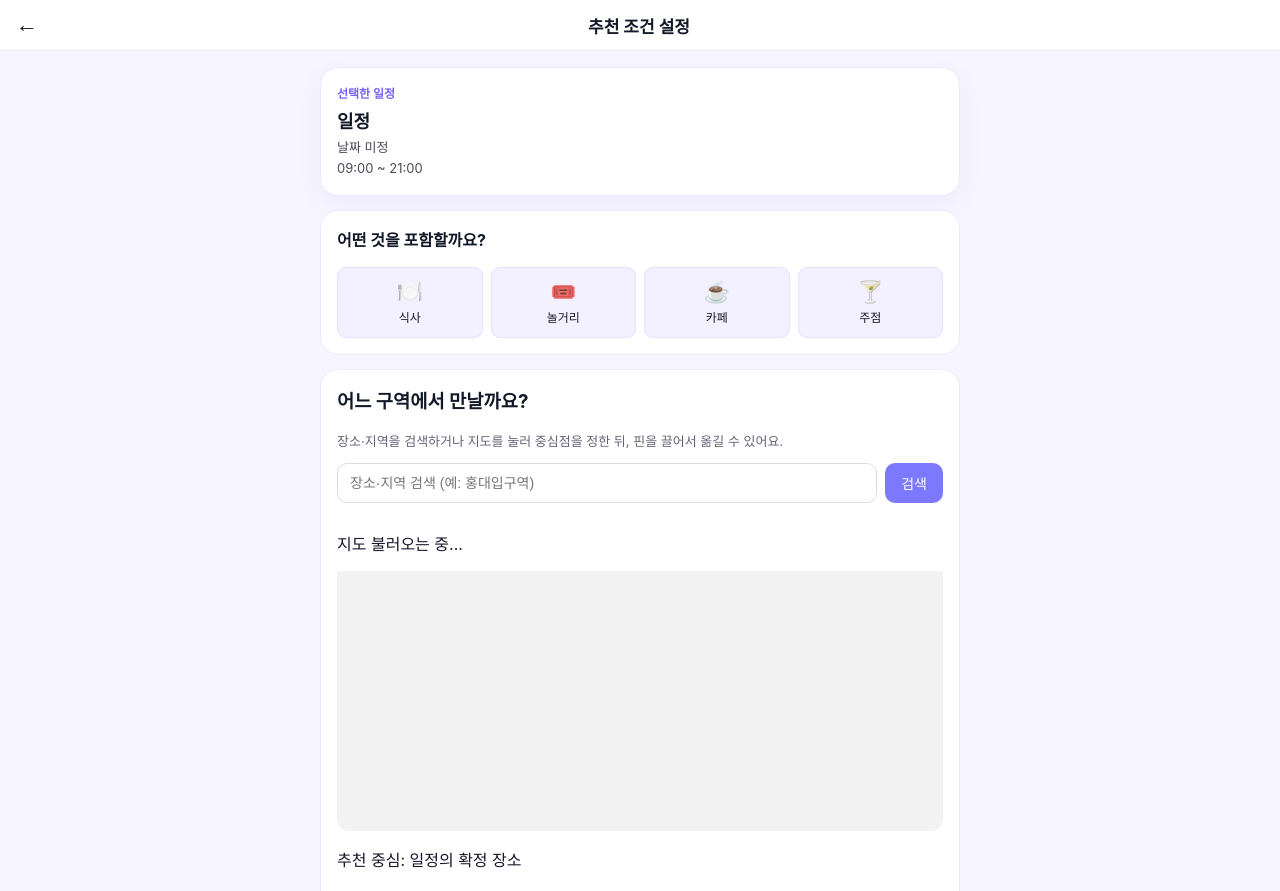
Test case: 0원 예산에 식사를 선택하면 추천 요청 전에 이유와 해결 방법을 안내
Later steps or results of the test are not shown.
Click the button "🍽️ 식사" at (410,302), box left=337, top=267, right=482, bottom=338
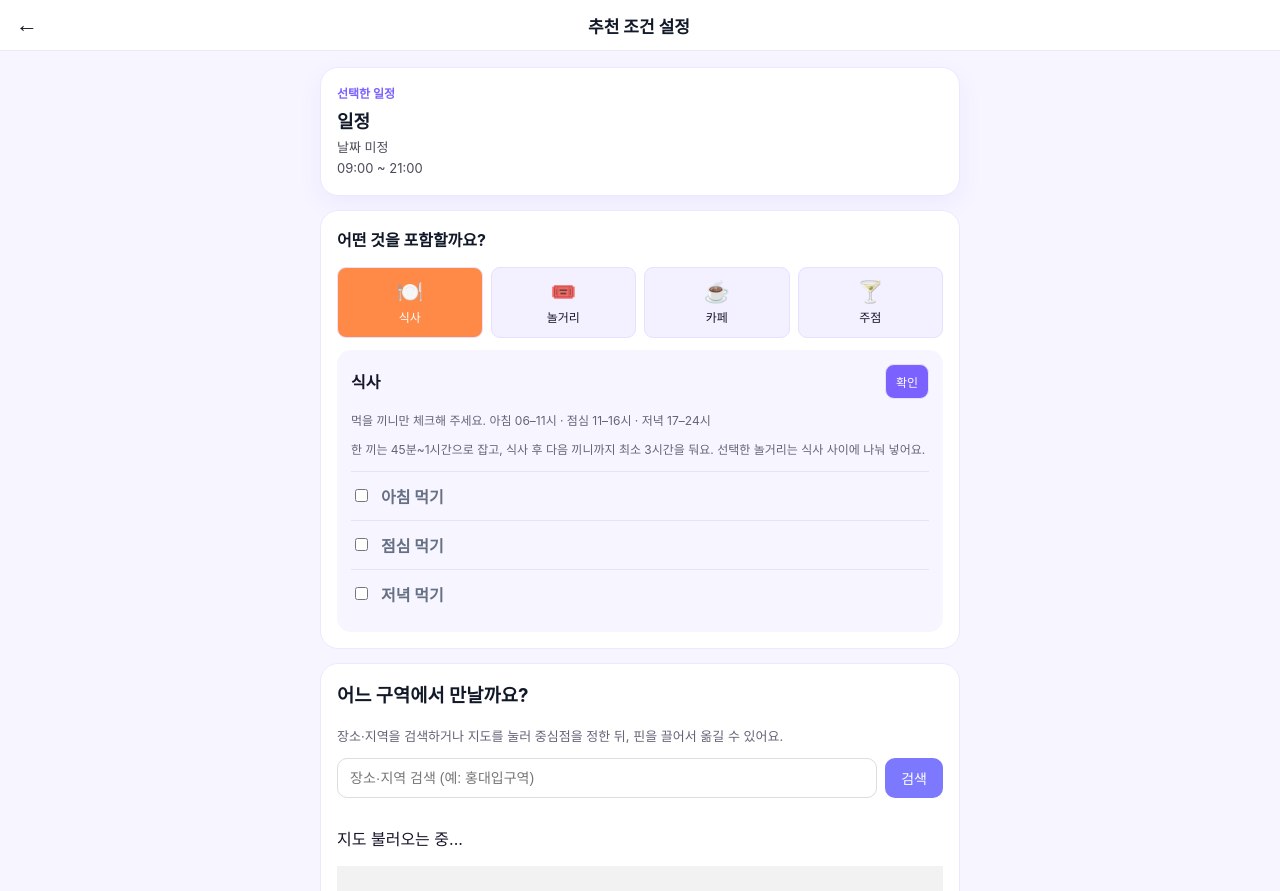
Click the checkbox labelled "점심 먹기" at (362,545), box left=355, top=538, right=368, bottom=551
(page scrolled)
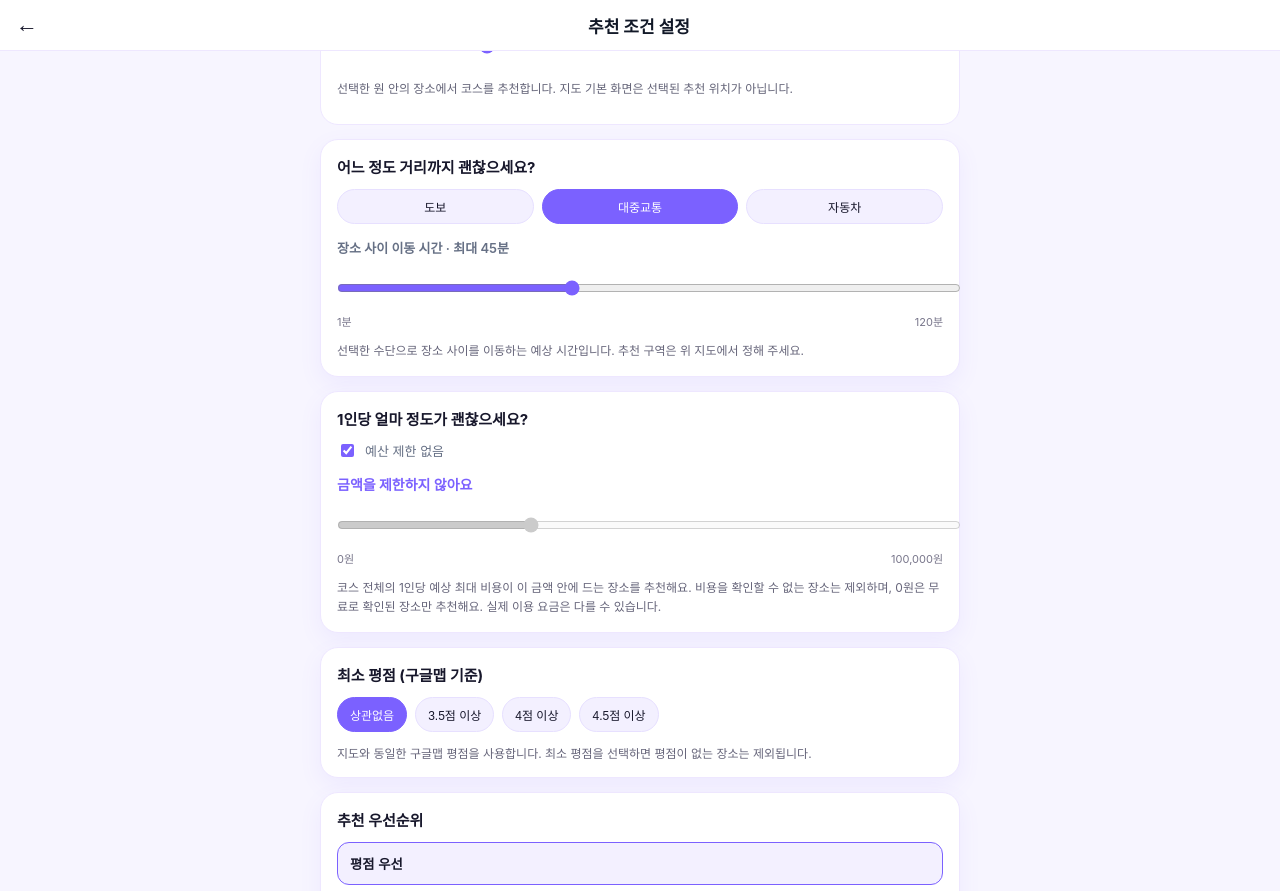
Click the checkbox labelled "예산 제한 없음" at (348,450), box left=341, top=444, right=354, bottom=457
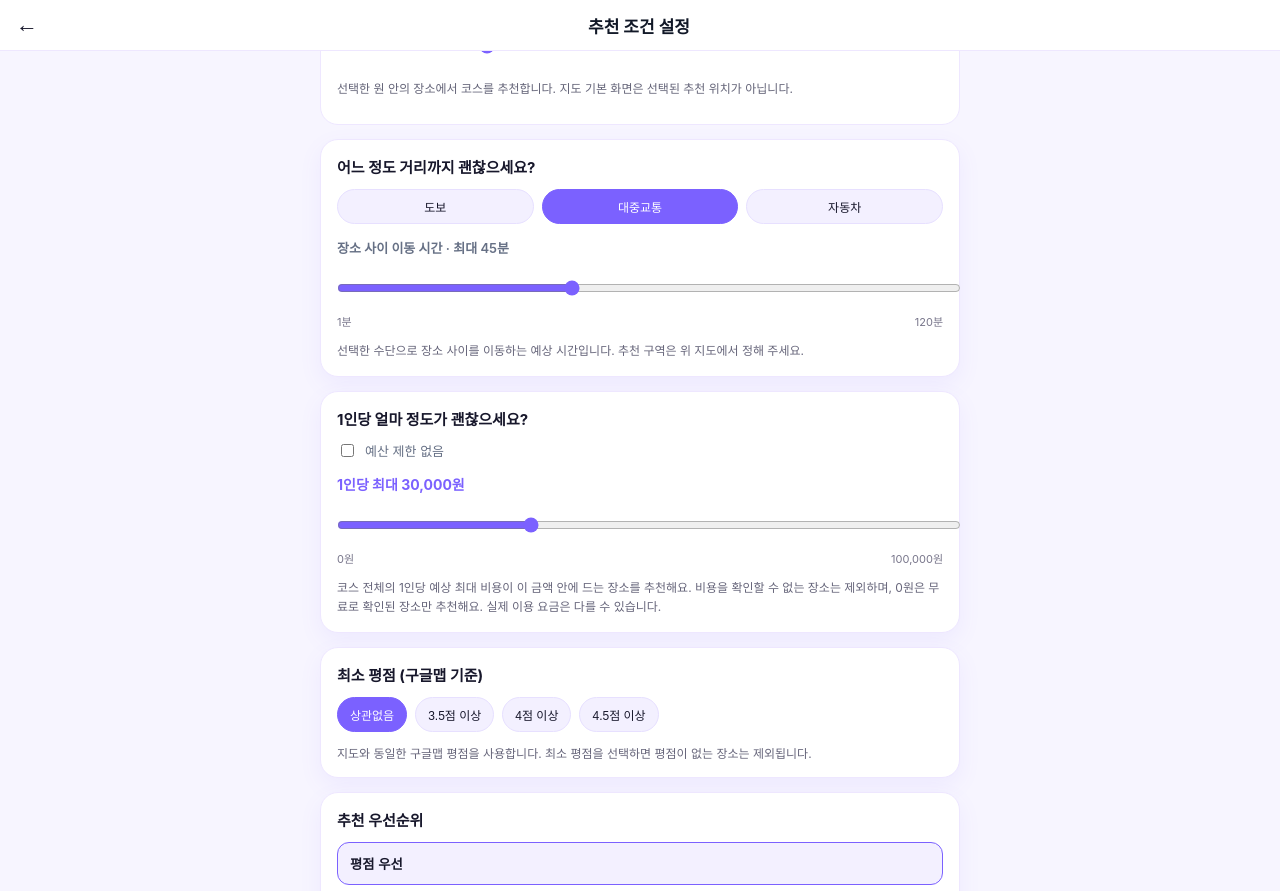
Set the slider named "1인당 최대 예산" to "0" at (345,525), box left=337, top=508, right=961, bottom=542
(page scrolled)
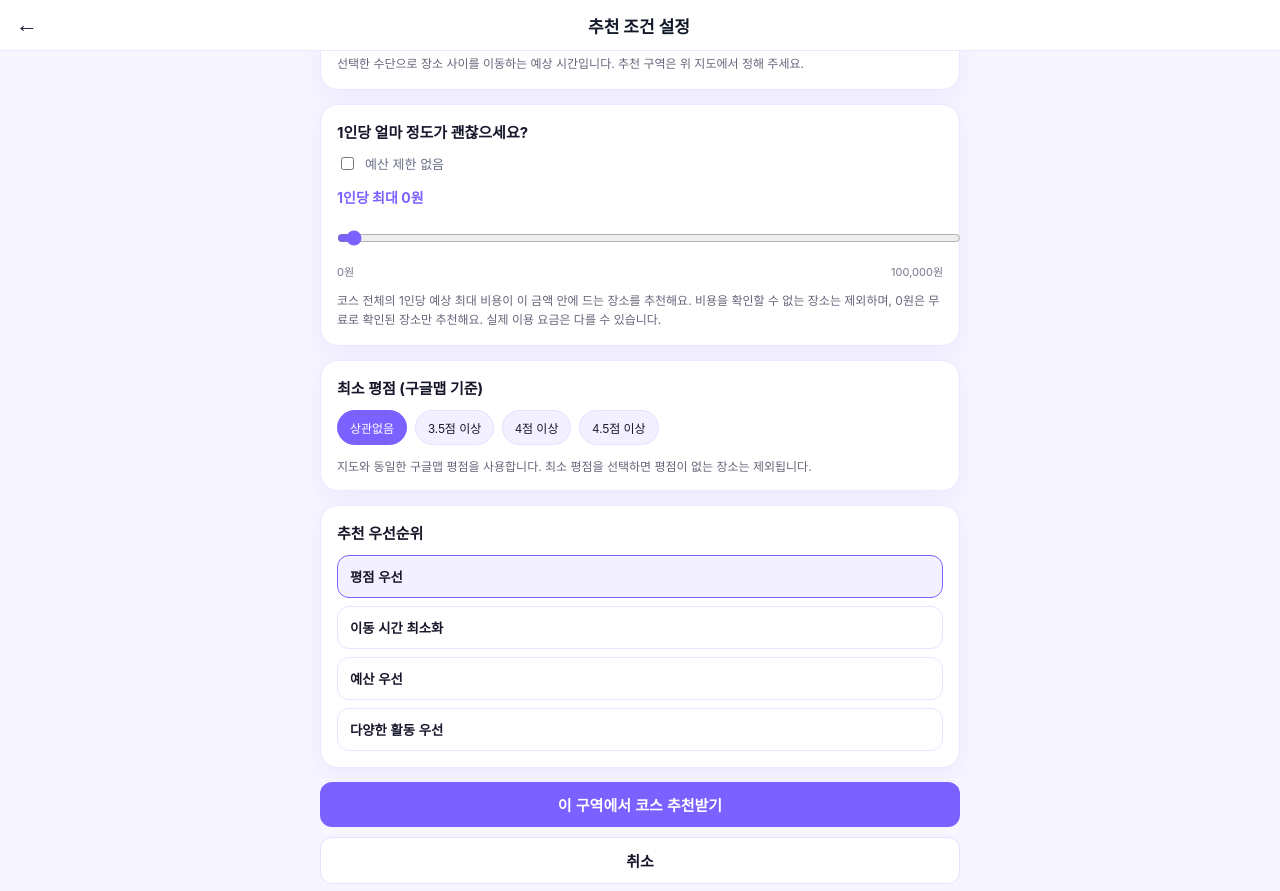
Click the button "이 구역에서 코스 추천받기" at (640,805), box left=320, top=782, right=960, bottom=827
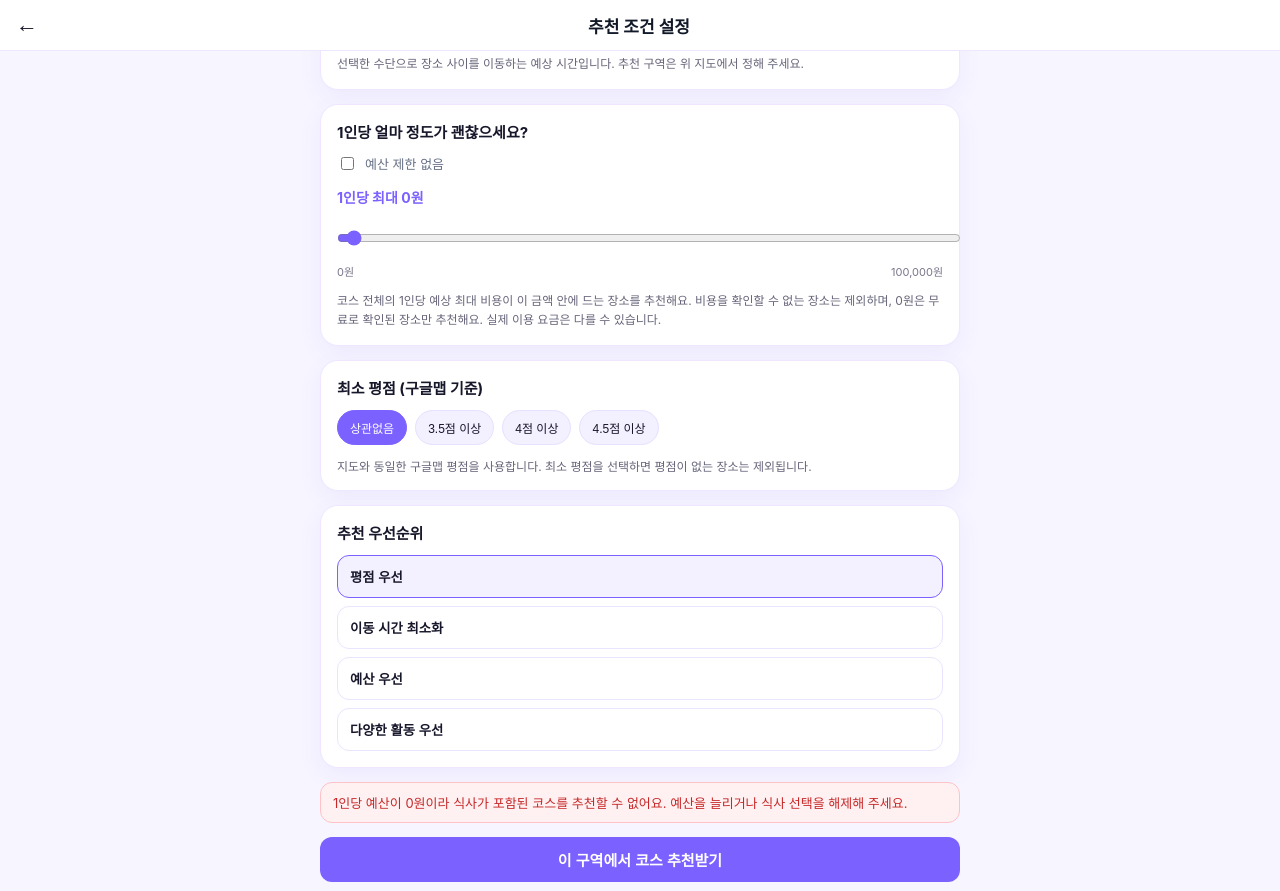
expect the message shows "1인당 예산이 0원이라 식사가 포함된 코스를 추천할 수 없어요.": met, box left=333, top=795, right=908, bottom=811
expect the message shows "예산을 늘리거나 식사 선택을 해제해 주세요.": met, box left=333, top=795, right=908, bottom=811
